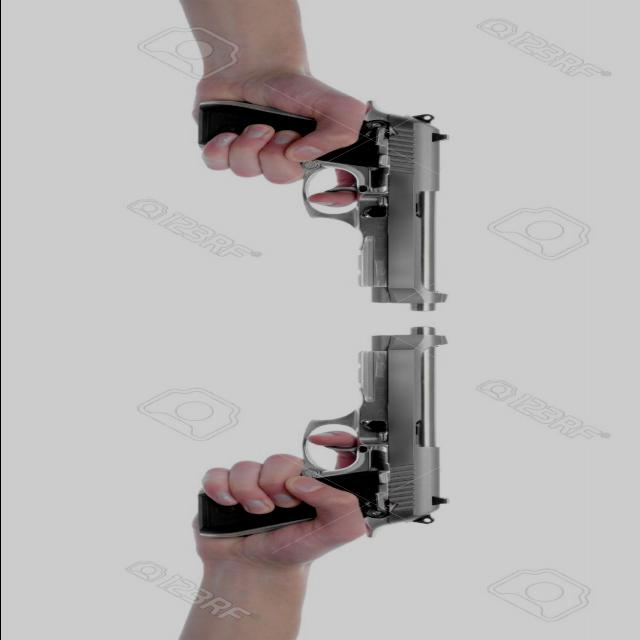handgun: (170, 104, 462, 308), (195, 326, 442, 544)
